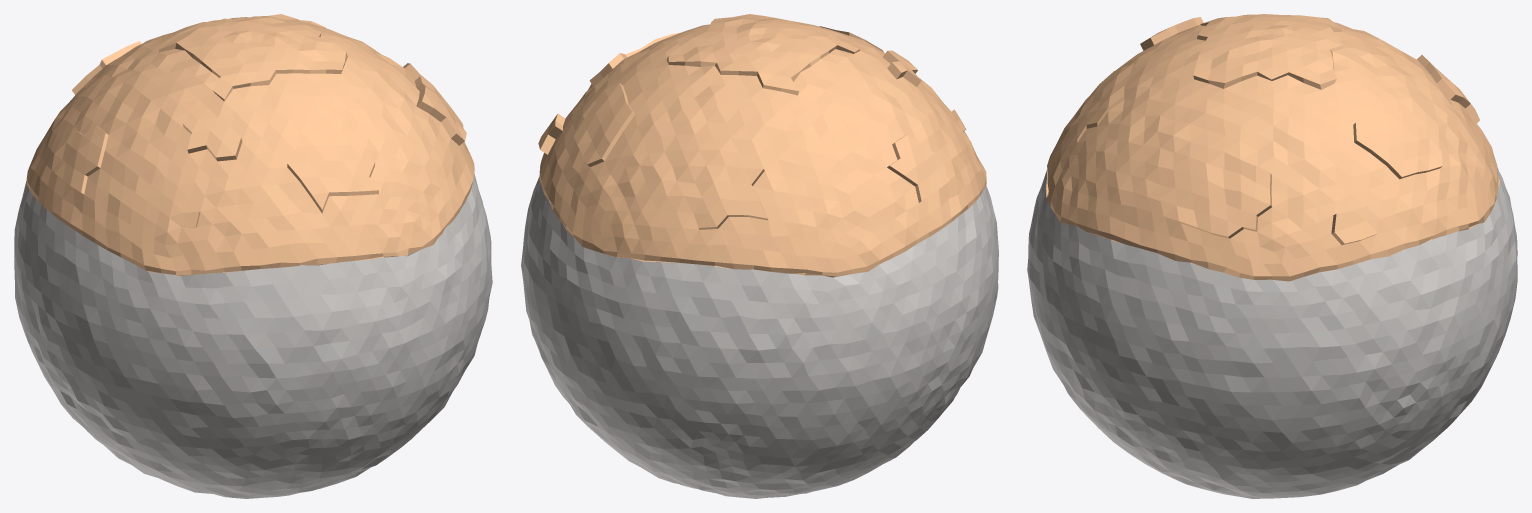
The picture shows the model from 3 angles, left to right: view 1: azimuth 30°, elevation 25°; view 2: azimuth 150°, elevation 25°; view 3: azimuth 270°, elevation 25°; orthographic projection.
Parts seen in each view (by area): view 1: Icosphere; view 2: Icosphere; view 3: Icosphere.
Boxes of the visible parts, box(x1,y1,x2,y2) form: Icosphere: box(14, 14, 492, 498); Icosphere: box(521, 14, 998, 498); Icosphere: box(1027, 14, 1517, 498).
Bounding box in the file's own units: 835 × 847 × 847.
